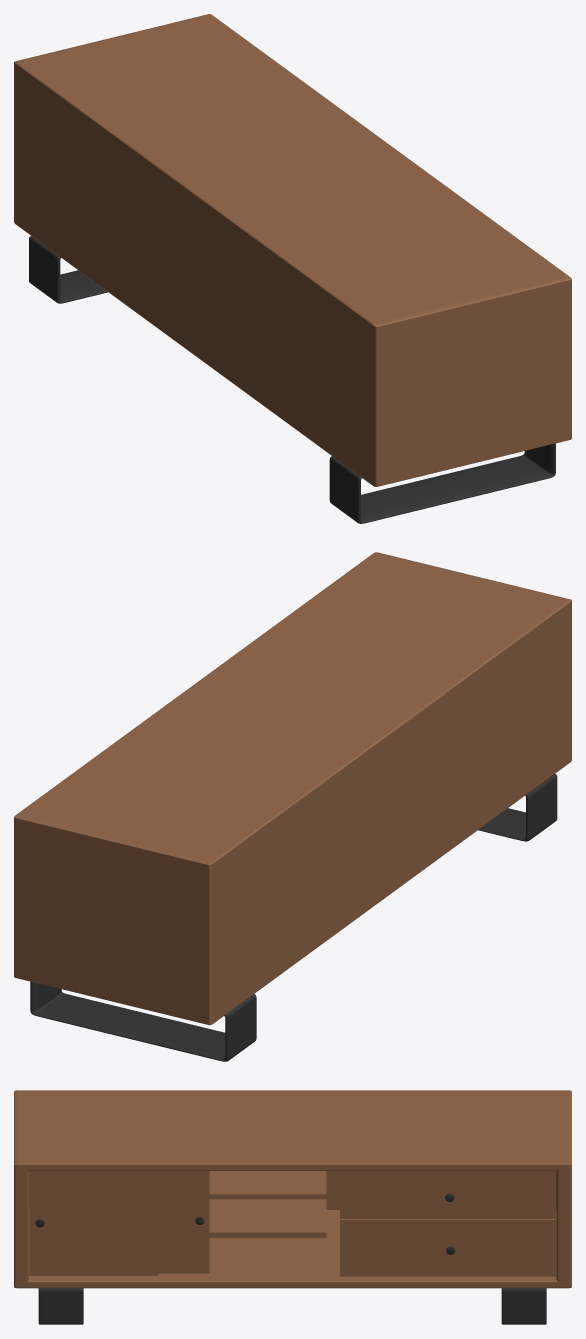
File: compressed_TVUnit.glb
The picture shows the model from 3 angles, top to bottom: view 1: azimuth 30°, elevation 25°; view 2: azimuth 150°, elevation 25°; view 3: azimuth 270°, elevation 25°; orthographic projection. The views are drawn at different scales.
Visible parts, largest first — view 1: Cube.001, Cube.004; view 2: Cube.001, Cube.004; view 3: Cube.001, Plane, Cube.003, Cube.002, Plane.003, Plane.002, Plane.001, Cube.004.
Part boxes in pixels (x1=…): Cube.001: x1=14, y1=14, x2=571, y2=486; Cube.004: x1=29, y1=236, x2=555, y2=523; Cube.001: x1=14, y1=552, x2=571, y2=1025; Cube.004: x1=30, y1=774, x2=557, y2=1061; Cube.001: x1=14, y1=1090, x2=571, y2=1288; Plane: x1=29, y1=1171, x2=158, y2=1275; Cube.003: x1=340, y1=1219, x2=556, y2=1276; Cube.002: x1=340, y1=1171, x2=556, y2=1218; Plane.003: x1=158, y1=1171, x2=209, y2=1273; Plane.002: x1=209, y1=1199, x2=326, y2=1237; Plane.001: x1=209, y1=1171, x2=326, y2=1199; Cube.004: x1=38, y1=1288, x2=546, y2=1324.
Bounding box in the file's own units: 0.4741 × 0.4811 × 1.5.
